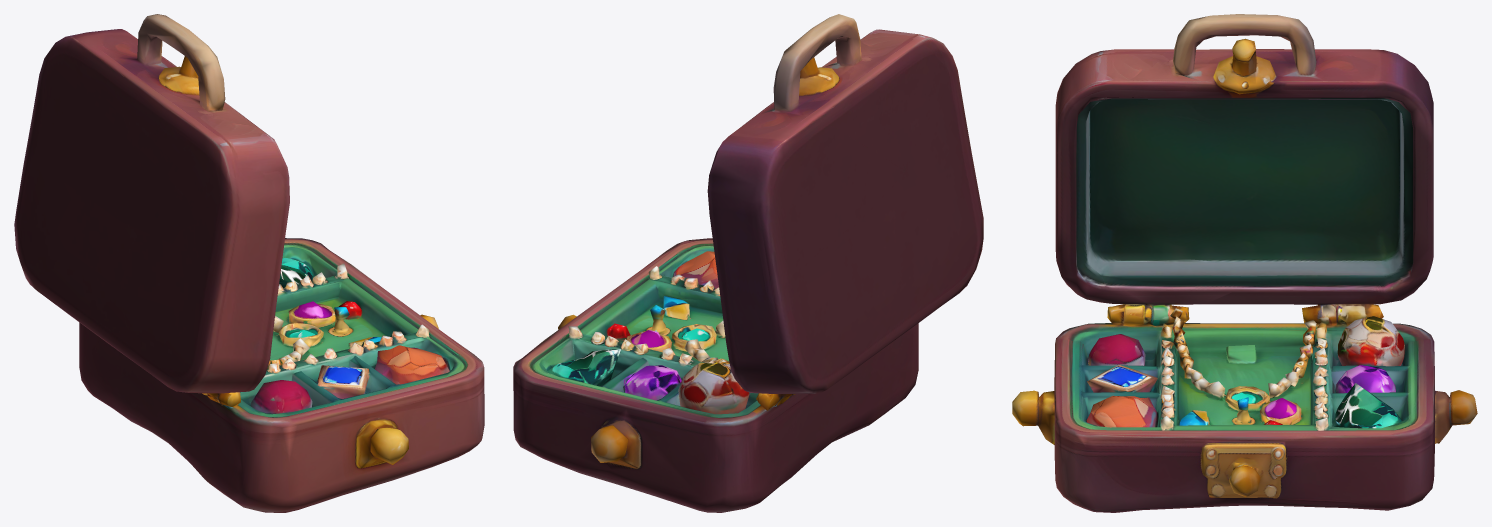
File: jewelry+box+3d+model.obj
3 views of the same model, side by side, from view 1: azimuth 30°, elevation 25°; view 2: azimuth 150°, elevation 25°; view 3: azimuth 270°, elevation 25° (orthographic). The views are drawn at different scales.
Visible parts, largest first — view 1: tripo_node_33dcc950-1f20-429a-b7fb-46a593eb7098; view 2: tripo_node_33dcc950-1f20-429a-b7fb-46a593eb7098; view 3: tripo_node_33dcc950-1f20-429a-b7fb-46a593eb7098.
Boxes of the visible parts, x1,y1,x2,y2 form: tripo_node_33dcc950-1f20-429a-b7fb-46a593eb7098: (14,14,484,512); tripo_node_33dcc950-1f20-429a-b7fb-46a593eb7098: (513,14,983,512); tripo_node_33dcc950-1f20-429a-b7fb-46a593eb7098: (1012,14,1477,512).
Size of the model in its own units: 0.8057 by 0.9933 by 0.9992.
Materials: 1 (1 with a texture image).
